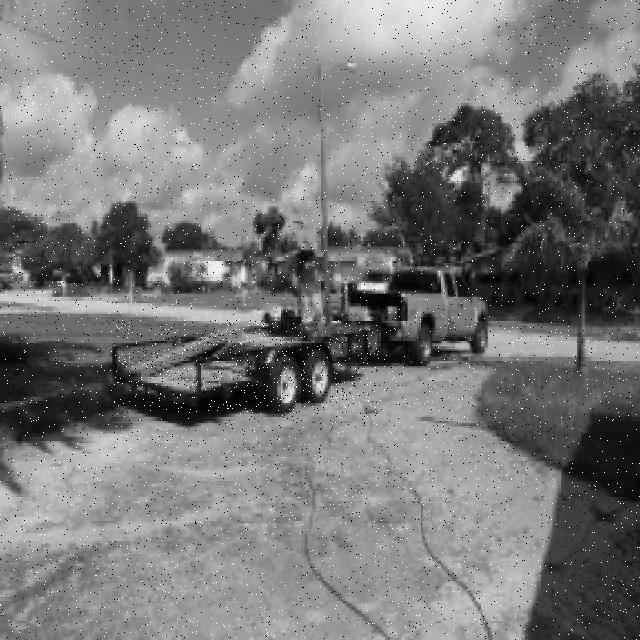Trailer: (111, 320, 380, 414)
